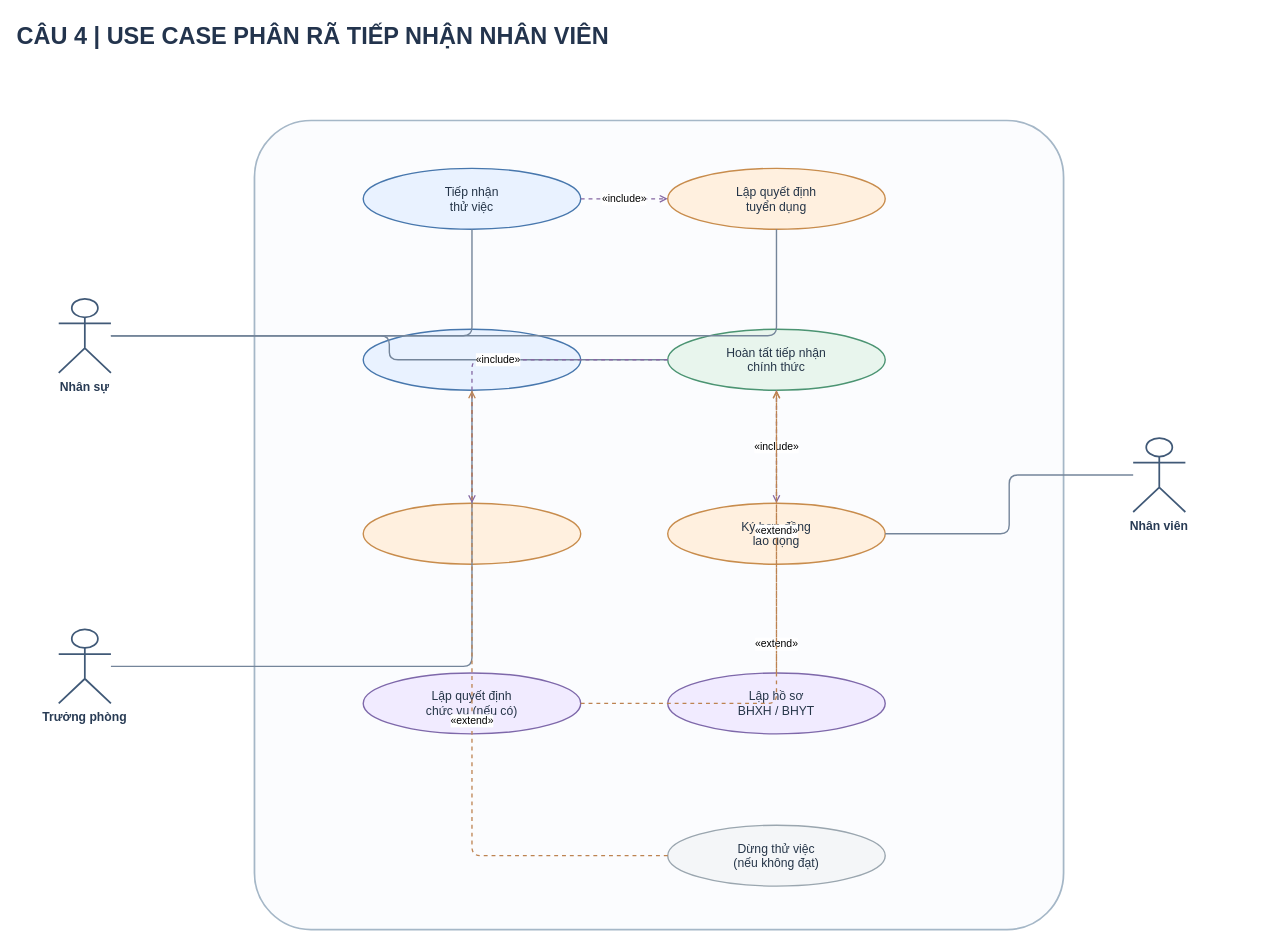
This 1282x945 diagram has some shape labels left out. The shapes that lost their labels are listed below. From the top down, each one's box as (x1, y1, x2, y2) in pixels, then its label:
(362, 328, 581, 390): Đánh giá kết quả thử việc
(362, 502, 581, 564): Lập quyết định lương
(253, 119, 1064, 930): QUY TRÌNH TIẾP NHẬN NHÂN VIÊN
